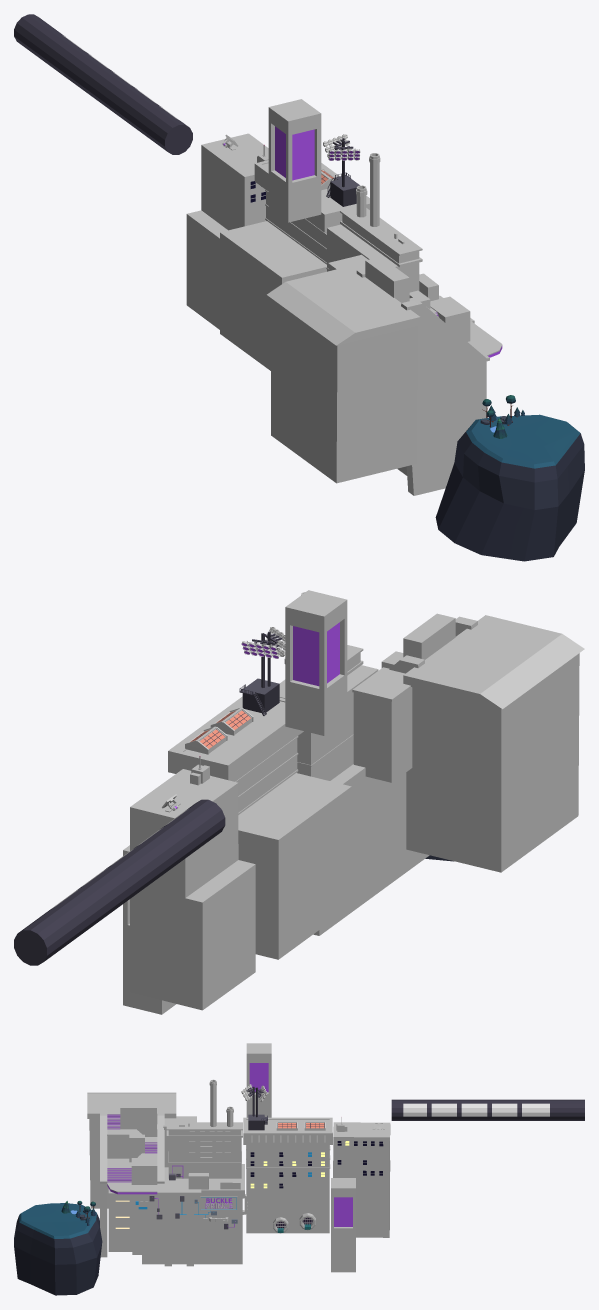
Rendered from EXT_MORP_MountainBuildings.fbx.
The picture shows the model from 3 angles, top to bottom: view 1: azimuth 30°, elevation 25°; view 2: azimuth 150°, elevation 25°; view 3: azimuth 270°, elevation 25°; orthographic projection. The views are drawn at different scales.
Parts seen in each view (by area): view 1: UndergroundBuilding, SmallMountainCopse.010, Building.022, GiantStaircaseFrame, Building.015, Cylinder.1840, Energy.015, Apartment_Purple.003, StaircaseBuilding, RoofToppings.003, Building, SpotlightTower5; view 2: UndergroundBuilding, Building.022, Building.015, Cylinder.1840, Energy.015, UndergroundBuilding.001, Building.007, Apartment_Purple.003, StaircaseBuilding, Energy.017, SpotlightTower5, SpotlightTower5.002 (+3 smaller); view 3: Building.022, UndergroundBuilding.001, SmallMountainCopse.010, Building.015, Cylinder.1840, Apartment_Purple.003, GiantStaircaseFrame, UndergroundBuilding, Energy.017, StaircaseBuilding, Energy.015, smaller giant stairs (+10 smaller).
Boxes of the visible parts, x1,y1,x2,y2 form: UndergroundBuilding: (267, 266, 420, 483); SmallMountainCopse.010: (435, 414, 584, 561); Building.022: (220, 160, 369, 370); GiantStaircaseFrame: (356, 268, 502, 495); Building.015: (186, 133, 268, 329); Cylinder.1840: (14, 14, 192, 154); Energy.015: (268, 99, 321, 222); Apartment_Purple.003: (326, 207, 422, 292); StaircaseBuilding: (365, 256, 436, 314); RoofToppings.003: (356, 153, 380, 226); Building: (430, 296, 470, 341); SpotlightTower5: (323, 134, 360, 187); UndergroundBuilding: (403, 615, 584, 872); Building.022: (168, 696, 351, 959); Building.015: (130, 769, 255, 1010); Cylinder.1840: (14, 799, 225, 965); Energy.015: (285, 590, 347, 735); UndergroundBuilding.001: (313, 764, 429, 935); Building.007: (352, 667, 412, 782); Apartment_Purple.003: (279, 645, 378, 780); StaircaseBuilding: (381, 613, 455, 668); Energy.017: (123, 845, 176, 1014); SpotlightTower5: (241, 627, 285, 687); SpotlightTower5.002: (239, 678, 279, 713); Building.022: (243, 1117, 332, 1233); UndergroundBuilding.001: (108, 1164, 244, 1264); SmallMountainCopse.010: (14, 1203, 102, 1295); Building.015: (333, 1122, 390, 1237); Cylinder.1840: (391, 1099, 584, 1120); Apartment_Purple.003: (166, 1122, 242, 1178); GiantStaircaseFrame: (100, 1110, 201, 1266); UndergroundBuilding: (87, 1092, 176, 1208); Energy.017: (331, 1178, 355, 1272); StaircaseBuilding: (107, 1103, 157, 1162); Energy.015: (246, 1043, 271, 1117); smaller giant stairs: (107, 1129, 157, 1182).
Size of the model in its own units: 19973 by 27843 by 68984.
